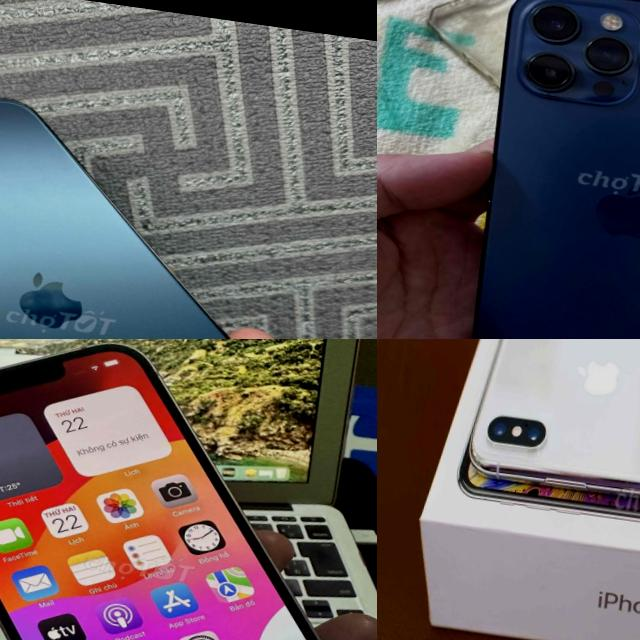gen_12_13: (0, 339, 377, 640), (0, 70, 352, 339), (438, 0, 640, 339)
gen_x_xs: (432, 339, 640, 591)
